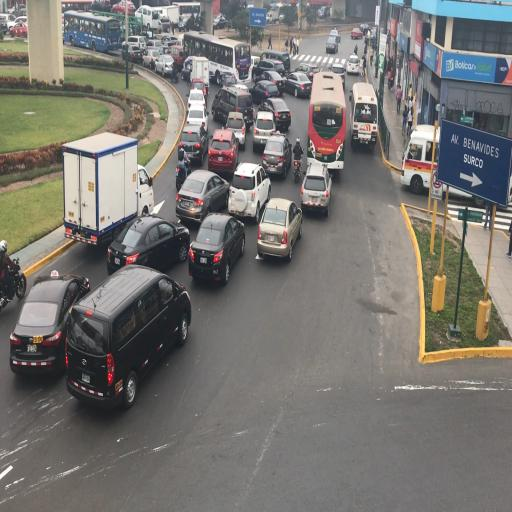auto: (65, 266, 188, 408), (10, 270, 90, 375), (107, 216, 189, 277), (188, 213, 245, 285), (176, 168, 230, 228), (400, 121, 444, 194), (256, 197, 301, 260), (228, 160, 268, 222), (212, 84, 252, 127), (300, 160, 330, 216), (261, 133, 294, 180), (208, 126, 240, 174), (177, 123, 207, 166), (258, 95, 290, 131), (252, 110, 276, 151), (224, 110, 247, 149), (248, 79, 281, 105), (185, 103, 208, 136), (284, 71, 312, 98), (254, 57, 286, 80), (164, 44, 186, 71), (154, 54, 177, 78), (346, 57, 363, 86), (292, 63, 316, 82), (143, 47, 161, 69), (9, 16, 28, 36), (0, 13, 17, 33), (144, 38, 164, 53), (115, 0, 135, 14), (159, 35, 178, 48), (212, 14, 227, 28), (326, 38, 338, 54), (350, 27, 363, 40), (329, 28, 340, 42), (271, 13, 280, 24)
bus: (62, 130, 138, 252), (188, 56, 210, 96)
camion: (0, 258, 26, 312), (175, 160, 191, 193)
moto: (306, 73, 344, 175), (184, 32, 242, 85), (63, 10, 121, 54), (349, 79, 378, 154), (135, 4, 166, 34), (170, 1, 201, 29), (156, 4, 181, 32)
